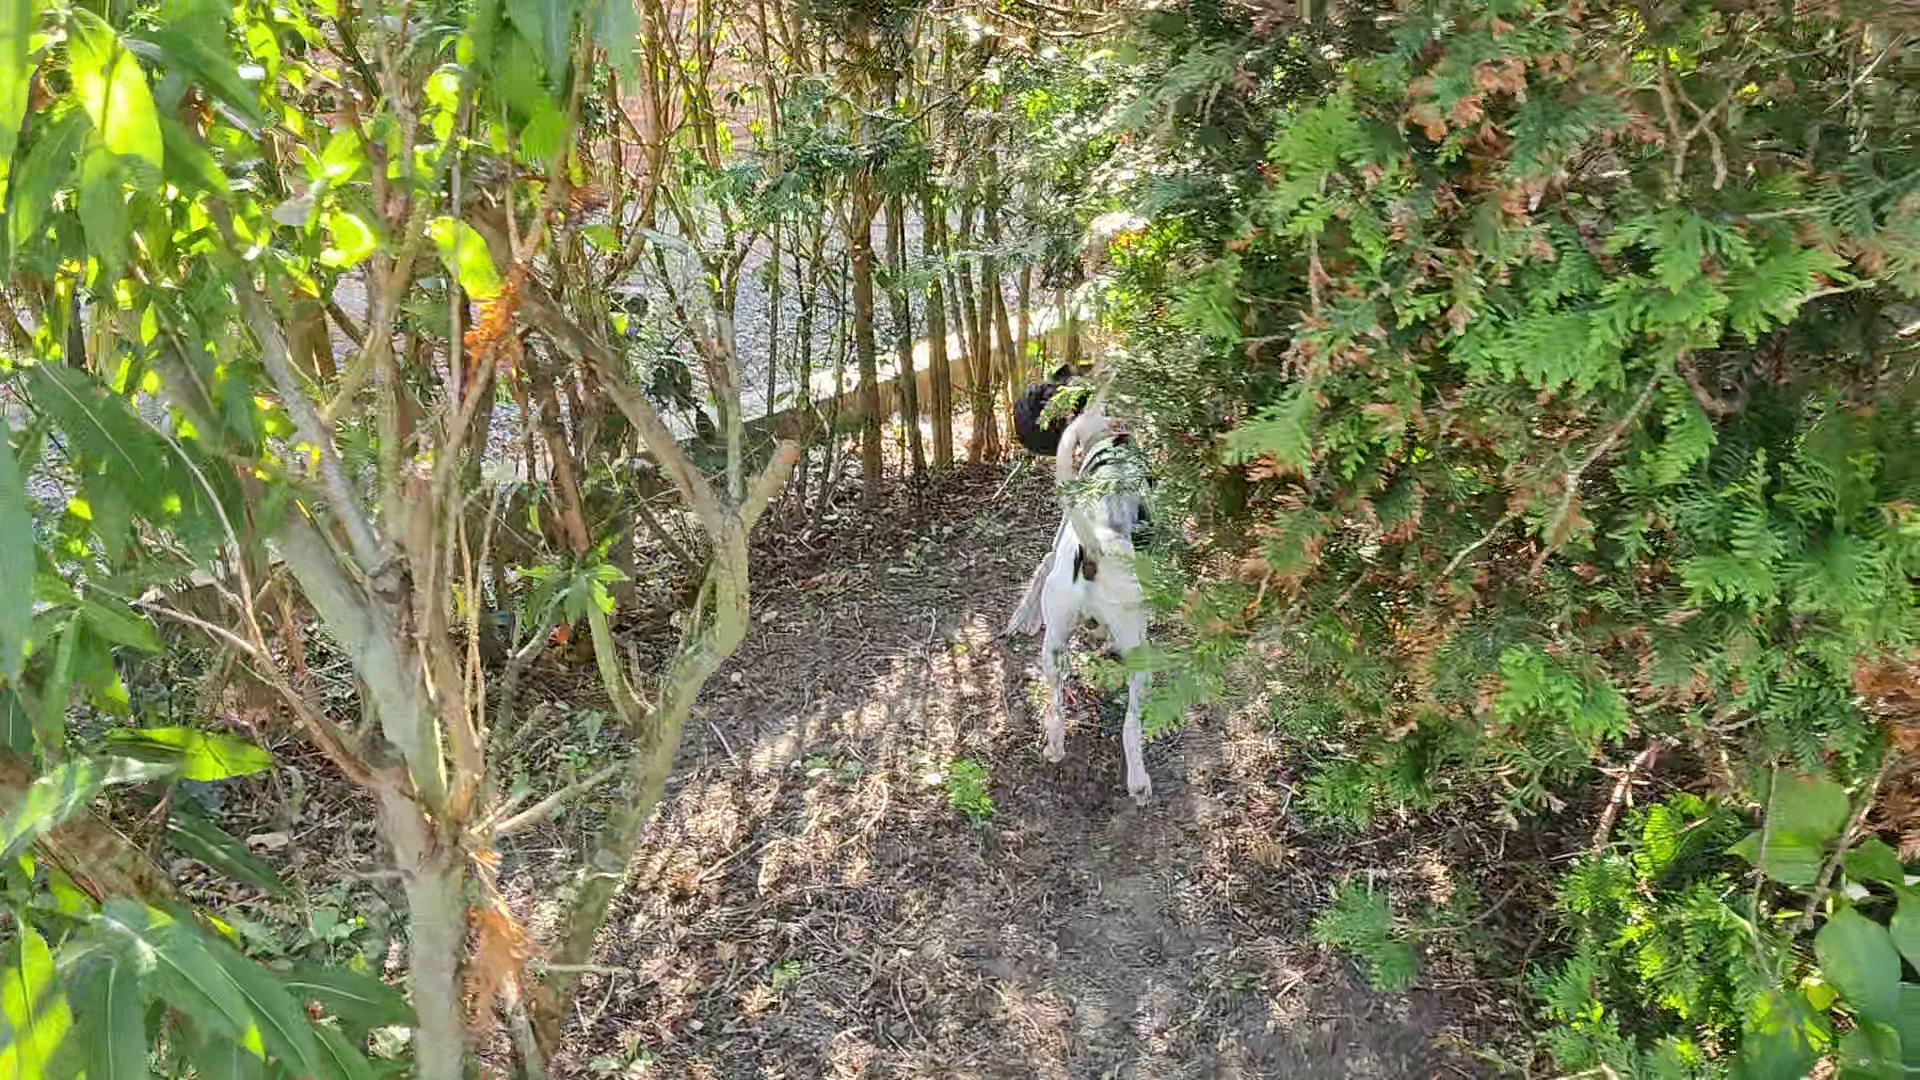Dog: (986, 363, 1203, 810)
